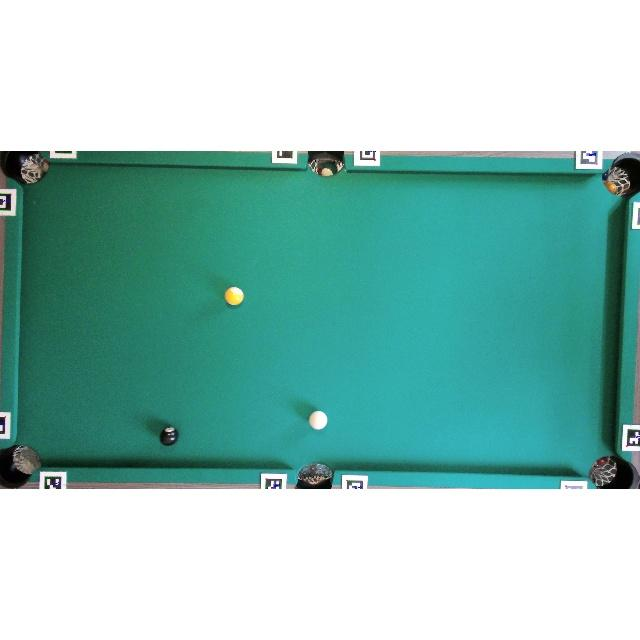cue ball: (308, 410, 328, 431)
other: (159, 426, 179, 446), (224, 286, 244, 306)
